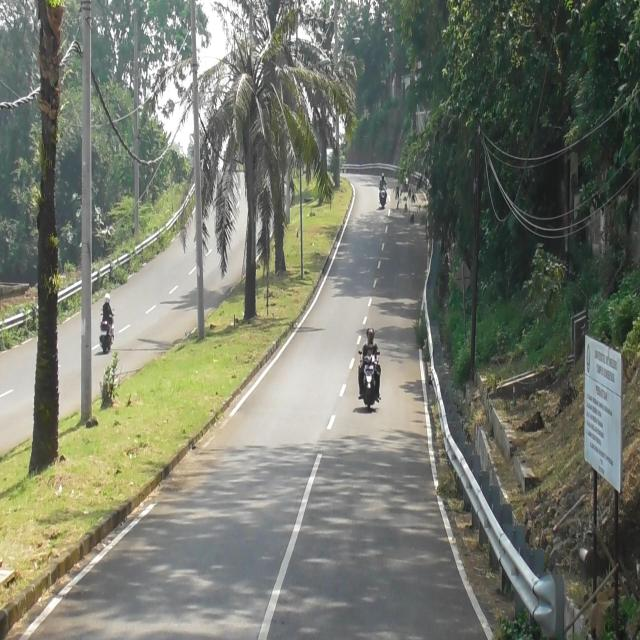motorcycle: (362, 354, 376, 409), (100, 310, 116, 354), (380, 187, 388, 208)
person: (360, 328, 380, 368), (101, 292, 115, 329), (364, 345, 376, 363), (379, 173, 389, 190)
rider_region: (358, 324, 380, 407), (101, 290, 116, 352), (375, 170, 389, 208)
